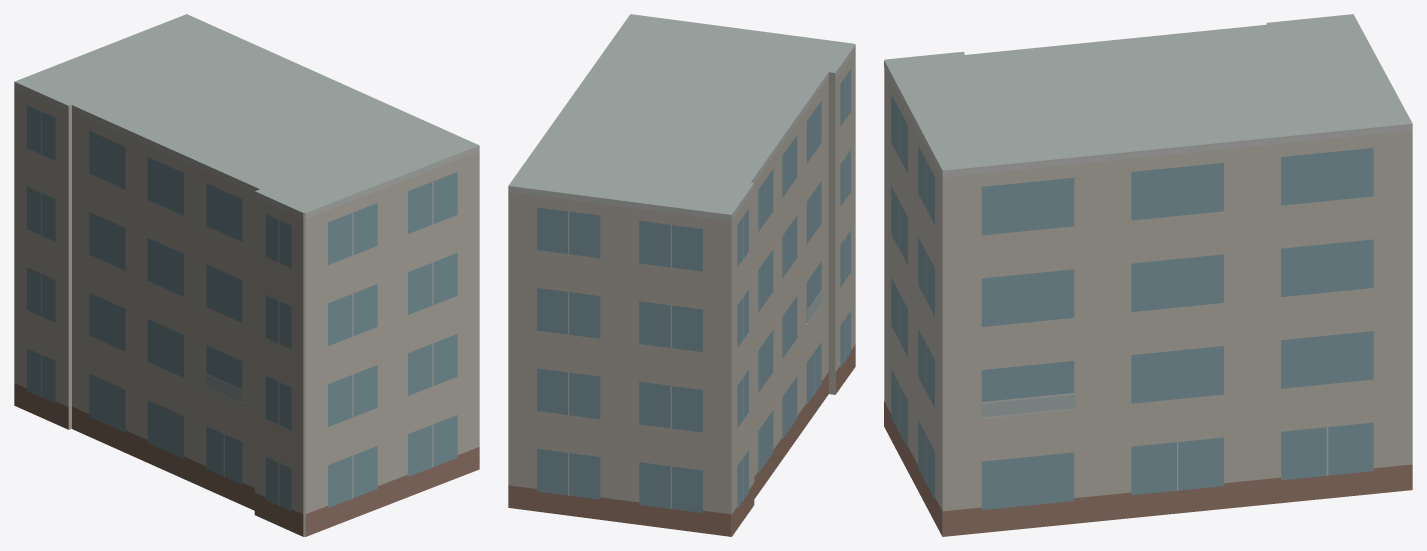
The model's file is survey-upis-32493811.glb.
3 views of the same model, side by side, from view 1: azimuth 30°, elevation 25°; view 2: azimuth 150°, elevation 25°; view 3: azimuth 270°, elevation 25° (orthographic). The views are drawn at different scales.
Visible parts, largest first — view 1: survey-upis-32493811.tmp; view 2: survey-upis-32493811.tmp; view 3: survey-upis-32493811.tmp.
Boxes of the visible parts, box(x1,y1,x2,y2) form: survey-upis-32493811.tmp: box(14, 14, 479, 536); survey-upis-32493811.tmp: box(508, 14, 855, 536); survey-upis-32493811.tmp: box(884, 14, 1412, 536).
Bounding box in the file's own units: 12.02 × 13.1 × 17.14.
